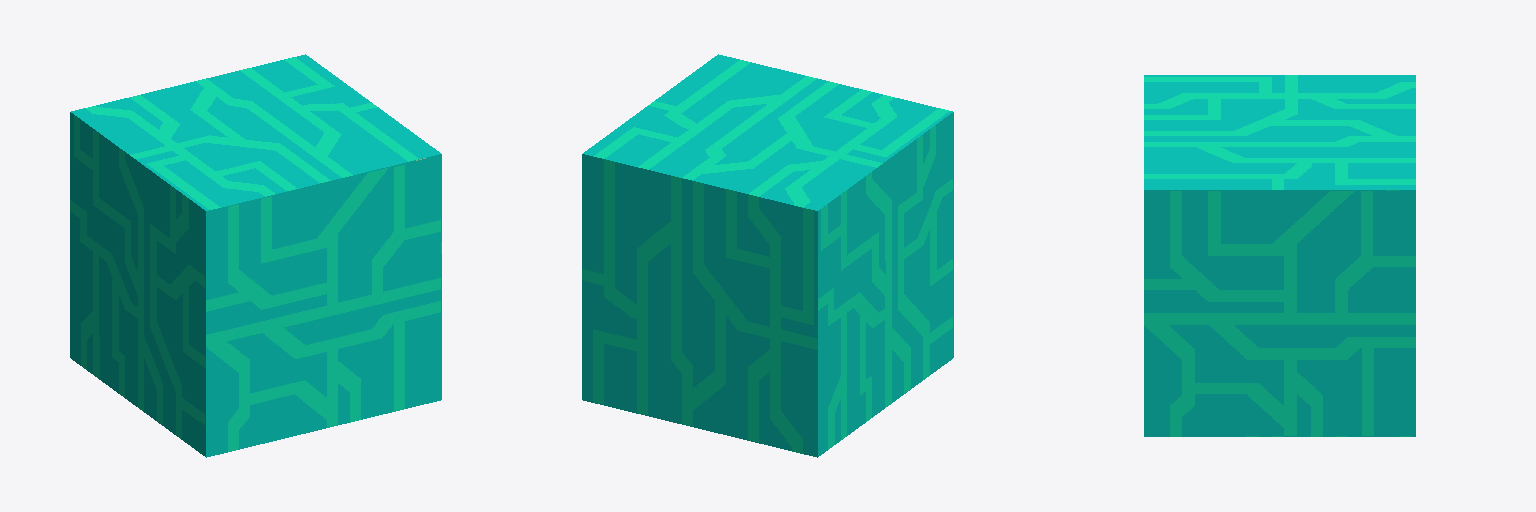
3 renders of one model, left to right at view 1: azimuth 30°, elevation 25°; view 2: azimuth 150°, elevation 25°; view 3: azimuth 270°, elevation 25°, orthographic.
Parts seen in each view (by area): view 1: Barrier; view 2: Barrier; view 3: Barrier.
Boxes of the visible parts, box(x1,y1,x2,y2) form: Barrier: box(70, 54, 441, 457); Barrier: box(582, 54, 953, 457); Barrier: box(1144, 75, 1415, 436).
Size of the model in its own units: 2 by 2 by 2.
Materials: 1 (1 with a texture image).